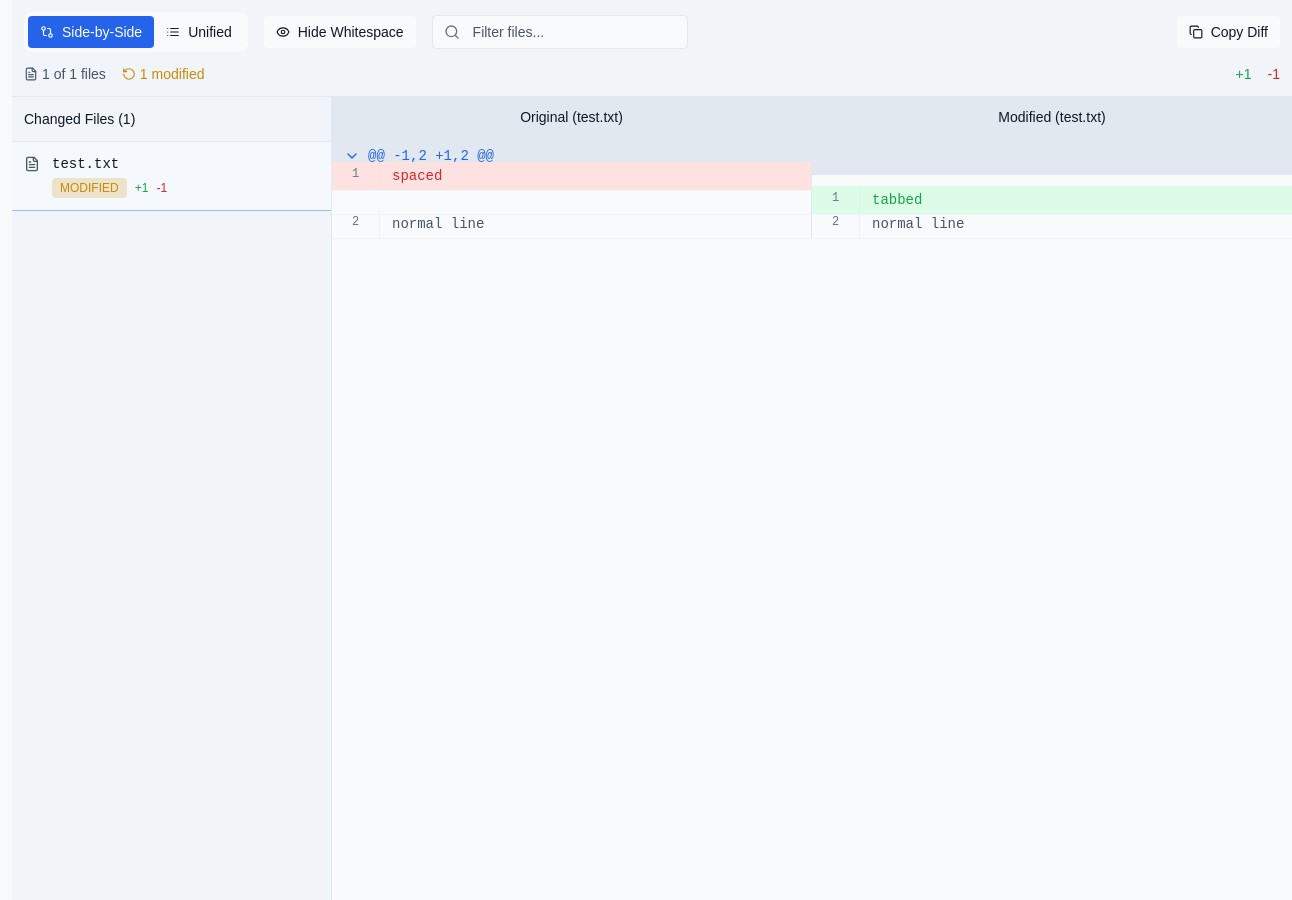
Scenario: DiffViewer › should toggle whitespace changes
This screenshot has width=1292, height=900.
Click the button "Hide Whitespace" at [340, 32], box [264,16,416,48]
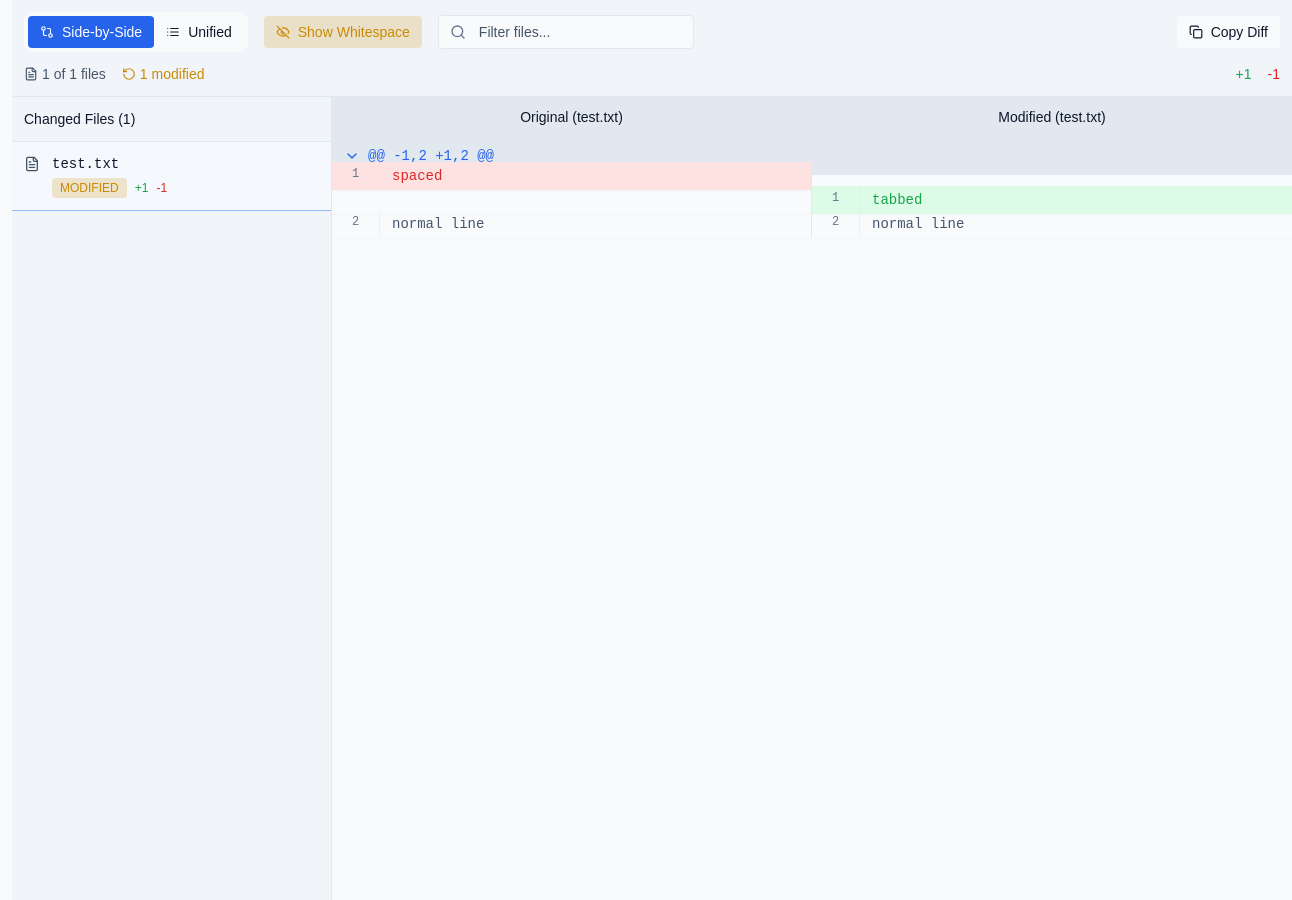
Now the text "Show Whitespace" is shown, box [298,22,410,42]
